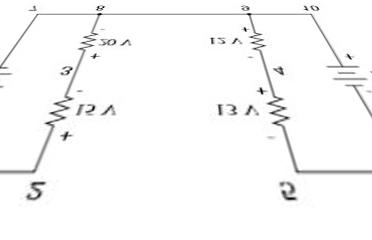resistor: (261, 82, 292, 129), (43, 89, 75, 132), (75, 26, 102, 56), (246, 23, 263, 59)
